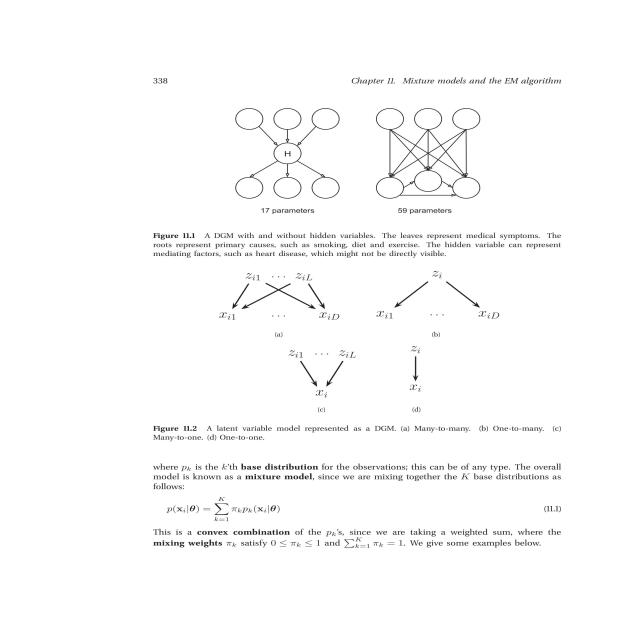diagram: (105, 85, 640, 448)
